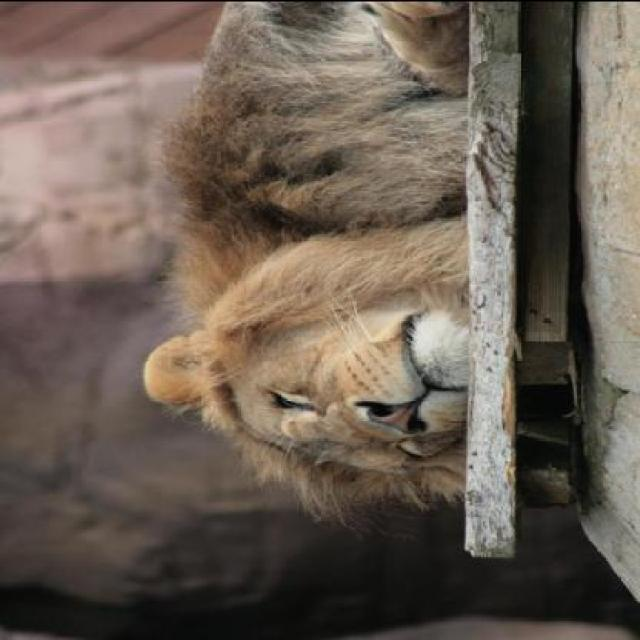Lion: (125, 2, 477, 524)
